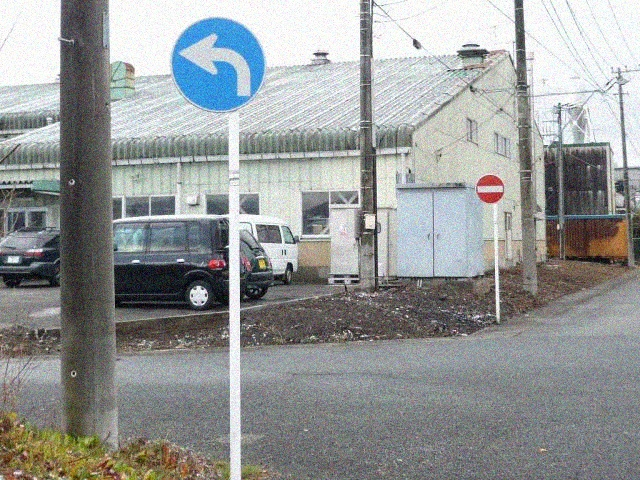Direction_sign: (165, 9, 284, 125)
